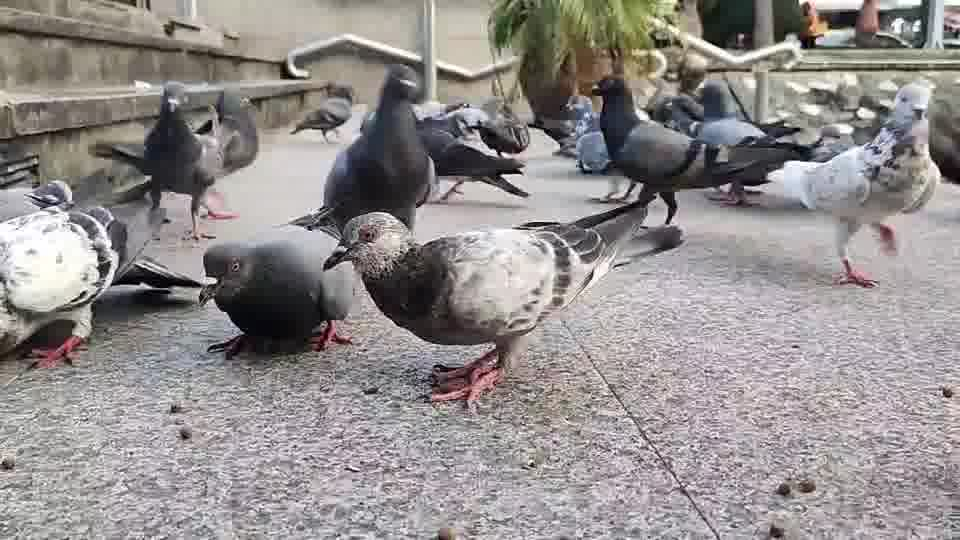Pigeon: (317, 195, 673, 410), (283, 62, 435, 242), (783, 116, 941, 288), (589, 74, 759, 225), (22, 178, 201, 304), (0, 199, 122, 369), (109, 81, 233, 241), (197, 237, 354, 360), (414, 109, 530, 202), (192, 90, 259, 220), (288, 84, 354, 143)
